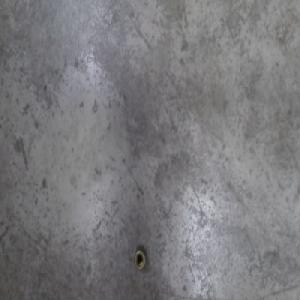Nut: (133, 247, 147, 273)
